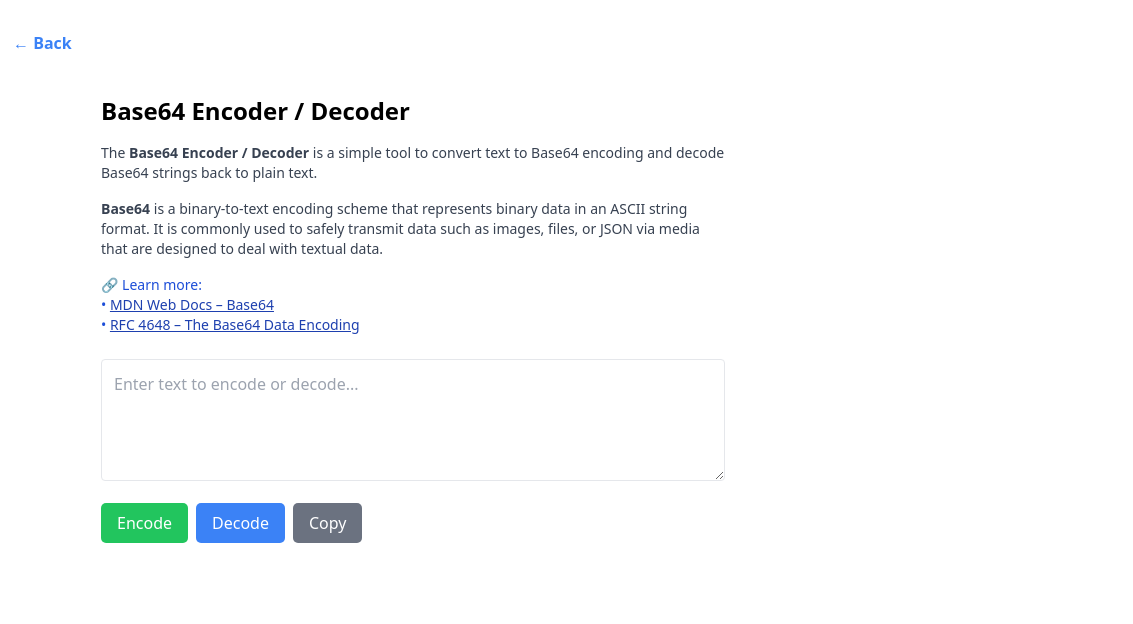
Base64Encoder › decodes base64 input
In the text box with placeholder "Enter text to encode or decode...": (413, 420) [101,359,725,481], type "dGVzdGluZw=="
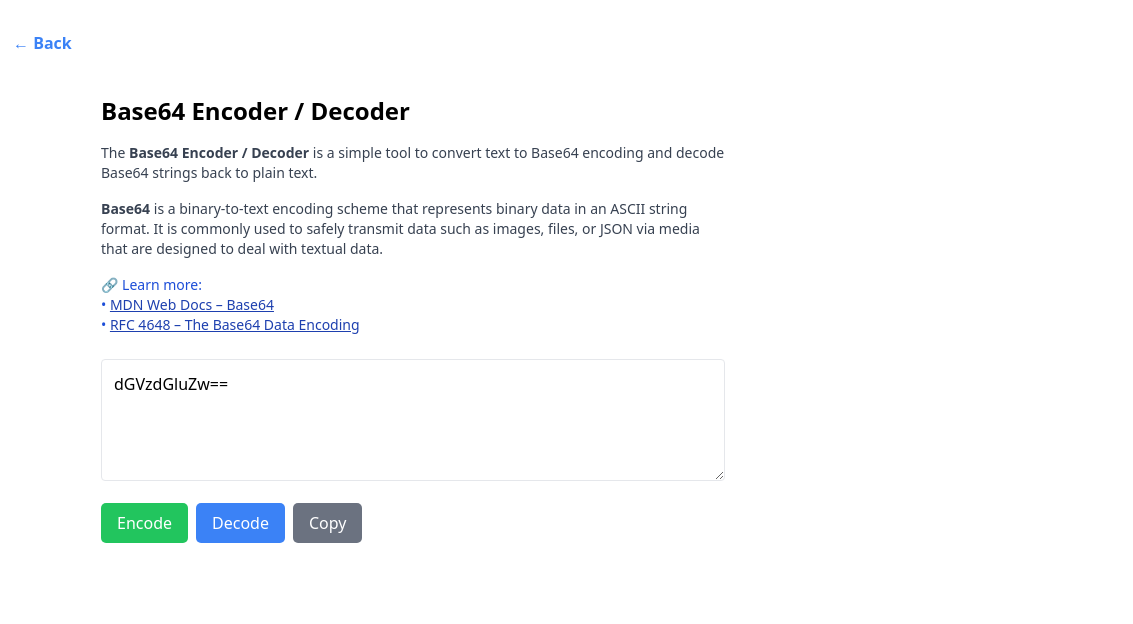
Click the button with class "btn-blue": click(240, 523) [196,503,285,543]
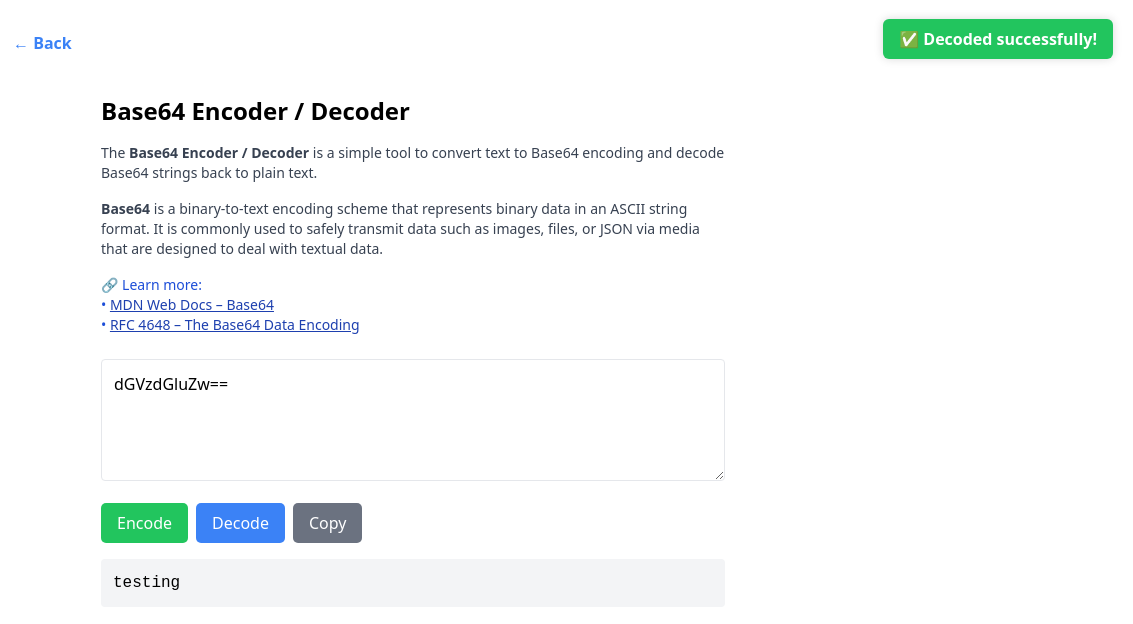
Expected: the text "testing" is shown, [113,574,180,592]
Expected: the text "Decoded successfully!" is shown, [899,28,1097,50]
